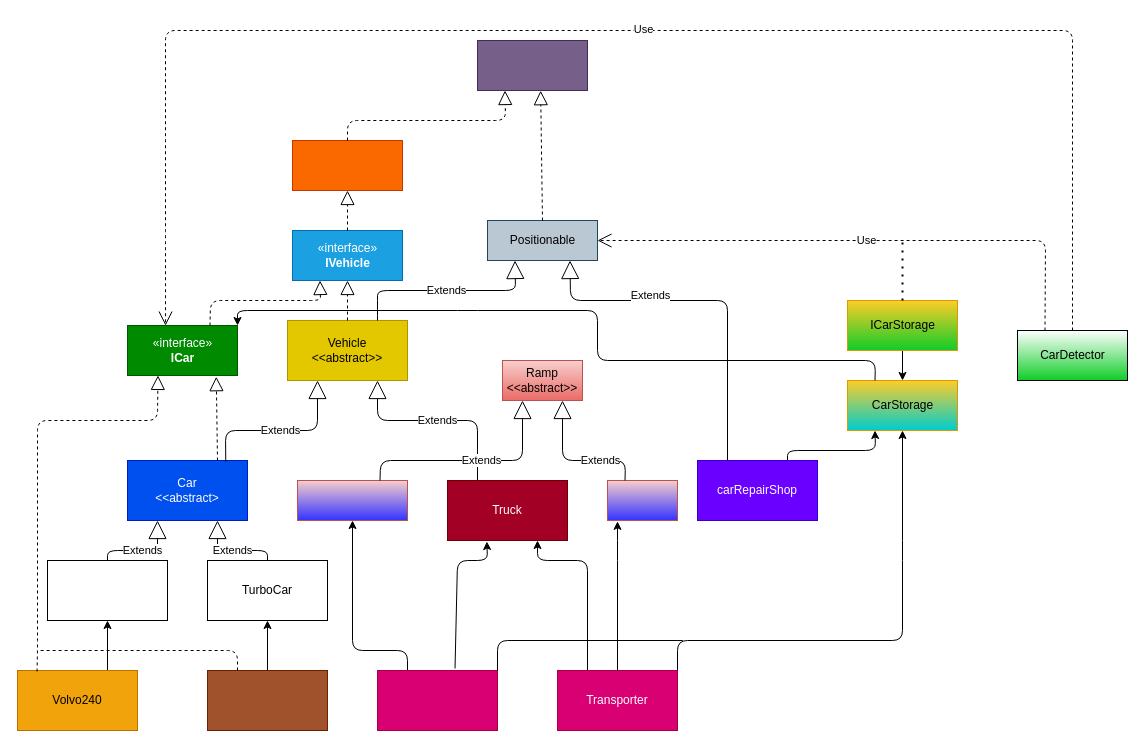
Some shapes in this 1145 by 748 pixel diagram are drawn without their labels. Here are the shapes that lost their labels. From the top down, the centre of each, then its label:
At (x=532, y=65): "<<interface>> IPositionable".
At (x=347, y=165): "«interface» Movable".
At (x=352, y=500): "StandardTruckRamp".
At (x=642, y=500): "Transporter Ramp".
At (x=107, y=590): "TrimCar".
At (x=267, y=700): "Saab".
At (x=437, y=700): "Scania".
